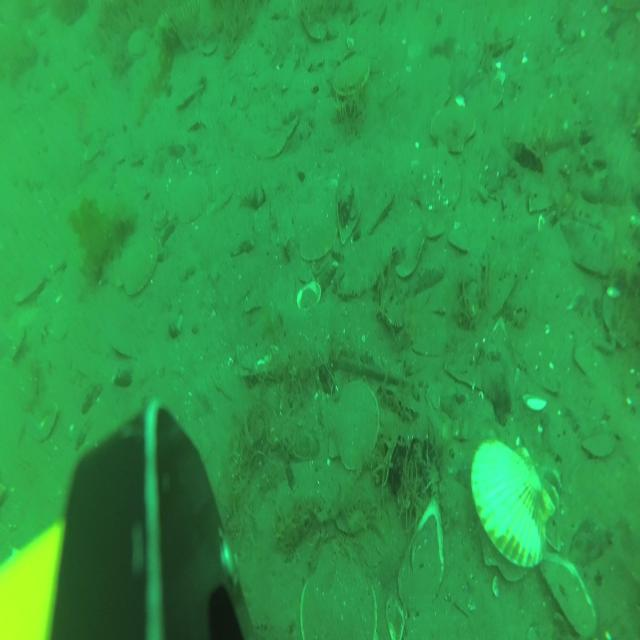scallop: (471, 436, 555, 570), (326, 377, 379, 475), (414, 143, 464, 214), (294, 191, 338, 265), (354, 170, 396, 238), (386, 208, 427, 275), (432, 96, 478, 151), (119, 236, 160, 294), (173, 178, 210, 230), (333, 56, 371, 100), (10, 268, 50, 306), (448, 210, 482, 253), (173, 72, 205, 114), (582, 427, 619, 463), (126, 25, 152, 64)
